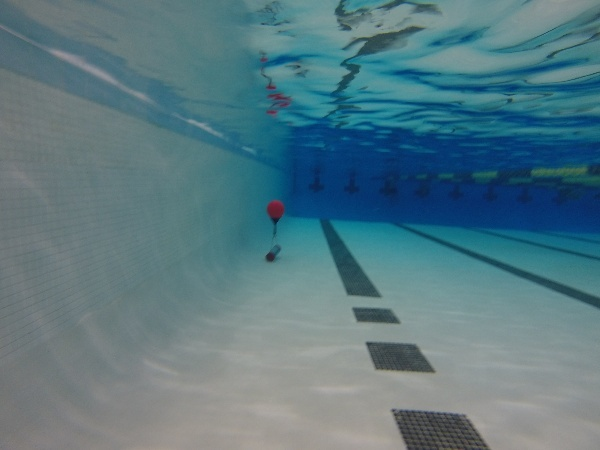buoy_red: (263, 197, 286, 227)
